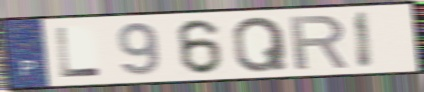6: (175, 17, 224, 76)
9: (115, 20, 163, 79)
I: (353, 10, 376, 70)
L: (54, 25, 105, 79)
Q: (231, 15, 290, 75)
R: (287, 14, 351, 72)
